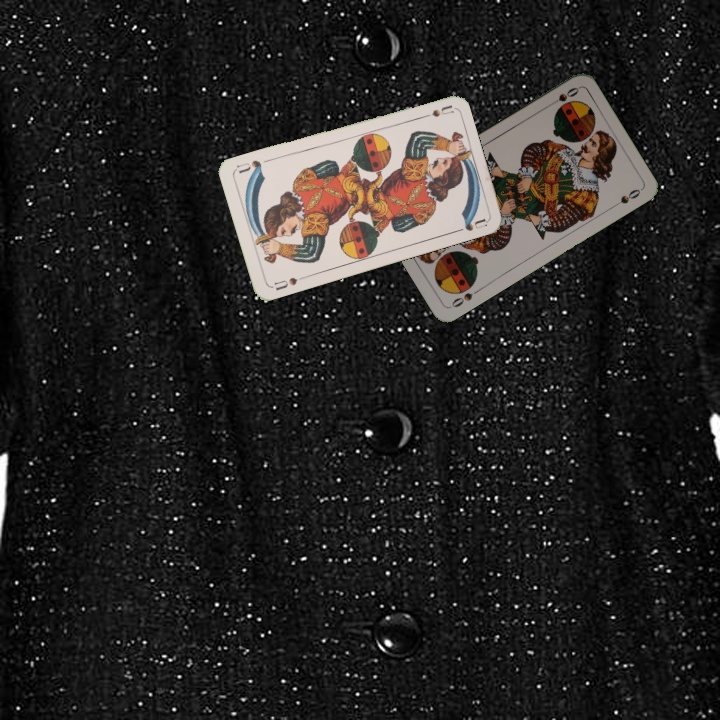SO: (545, 83, 582, 109), (446, 285, 483, 310)
SU: (414, 102, 454, 122), (270, 272, 308, 293)
